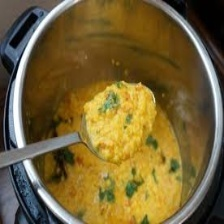dal: (43, 80, 183, 224)
